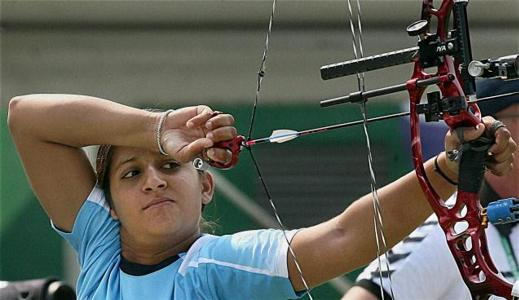person: (8, 88, 516, 300)
